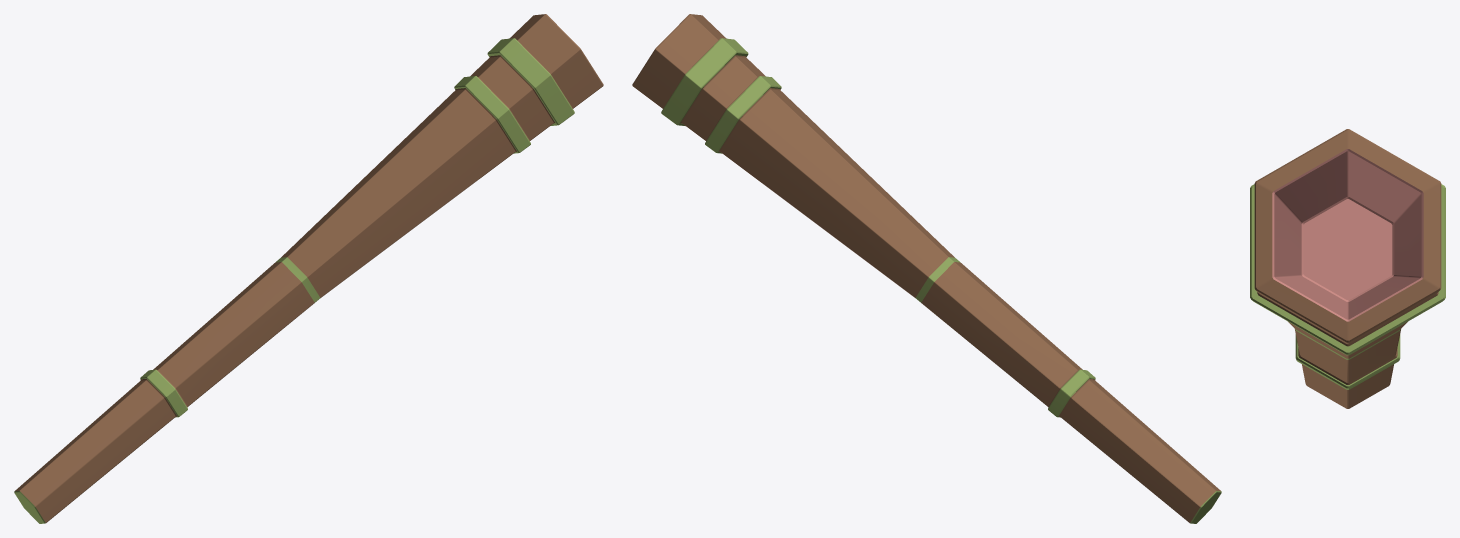
The model's file is torch_v1.fbx.
3 renders of one model, left to right at view 1: azimuth 30°, elevation 25°; view 2: azimuth 150°, elevation 25°; view 3: azimuth 270°, elevation 25°, orthographic. The views are drawn at different scales.
Visible parts, largest first — view 1: torch; view 2: torch; view 3: torch.
Boxes of the visible parts, <box> form: torch: <box>14,14,603,523</box>; torch: <box>632,14,1221,523</box>; torch: <box>1250,129,1445,408</box>.
Bounding box in the file's own units: 1.83 × 1.18 × 0.2711.
